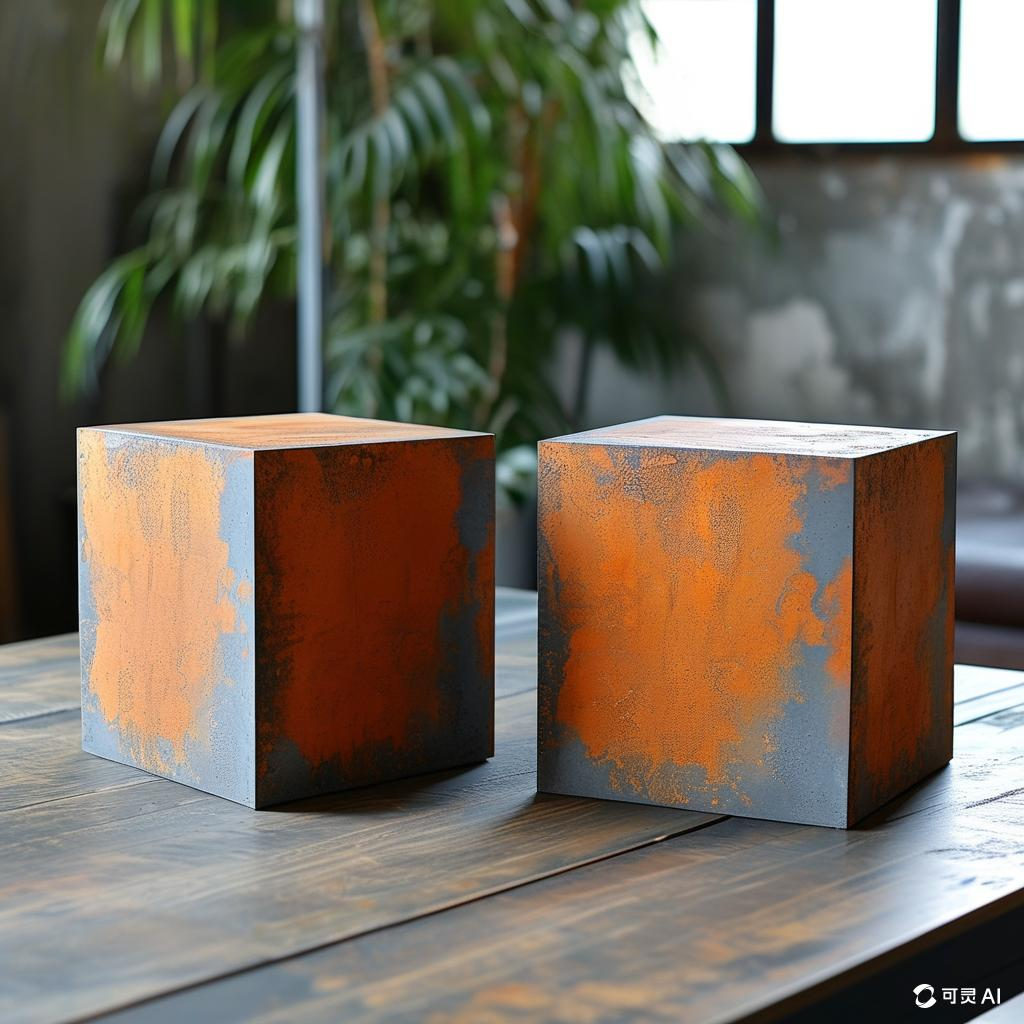cube: (535, 413, 958, 830), (75, 410, 497, 810)
